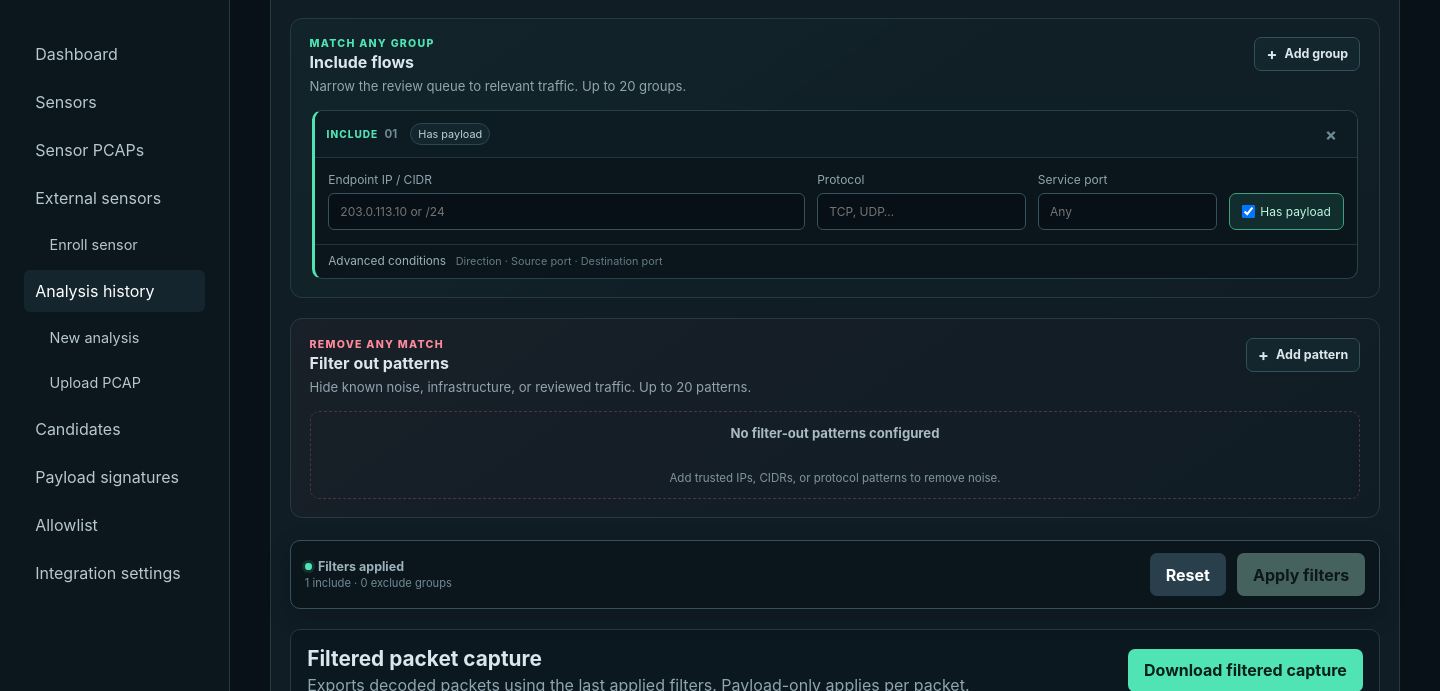
Test: C2Hunter UI › downloads packets using the last applied analysis-flow filters
(page scrolled)
Click the button with aria-label "Add filter out" at (1303, 355), box [1246, 338, 1360, 372]
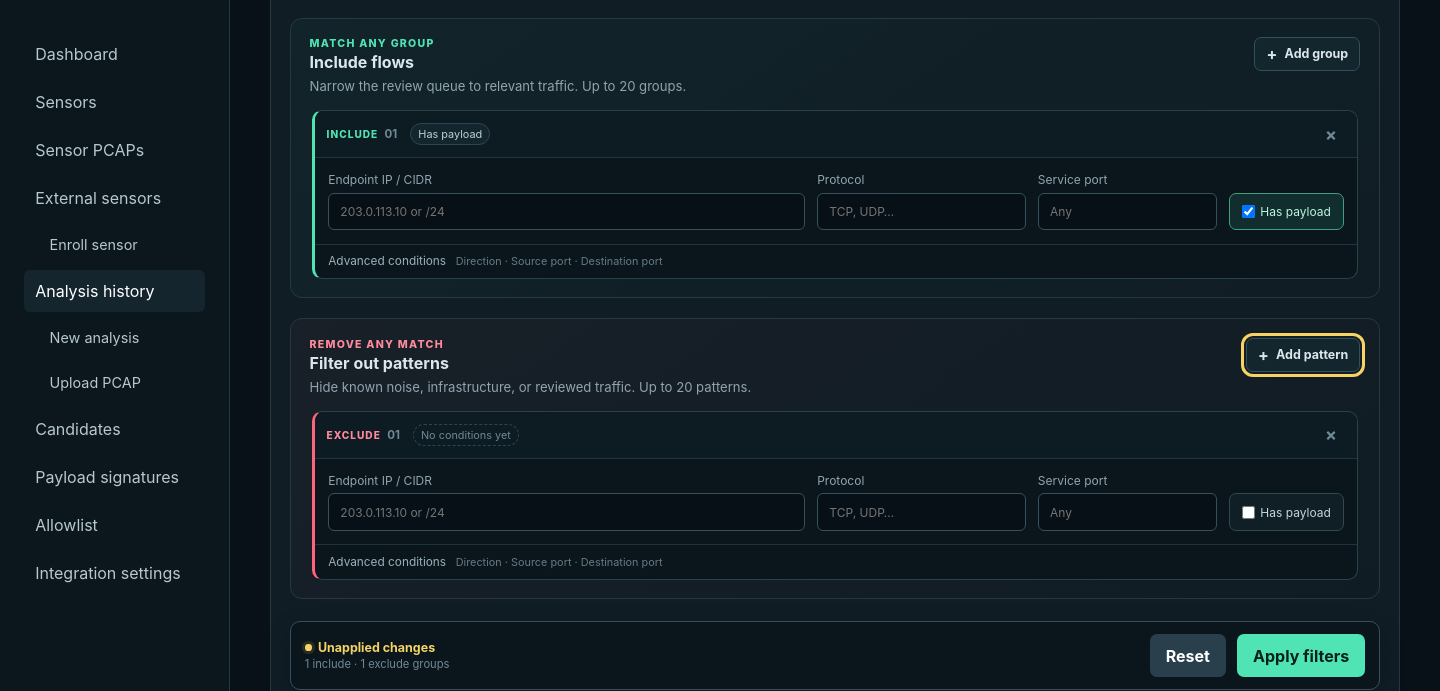
Type "198.51.100.0/24" into the field named "Filter out 1 endpoint IP or CIDR" at (567, 512), box [328, 493, 805, 531]
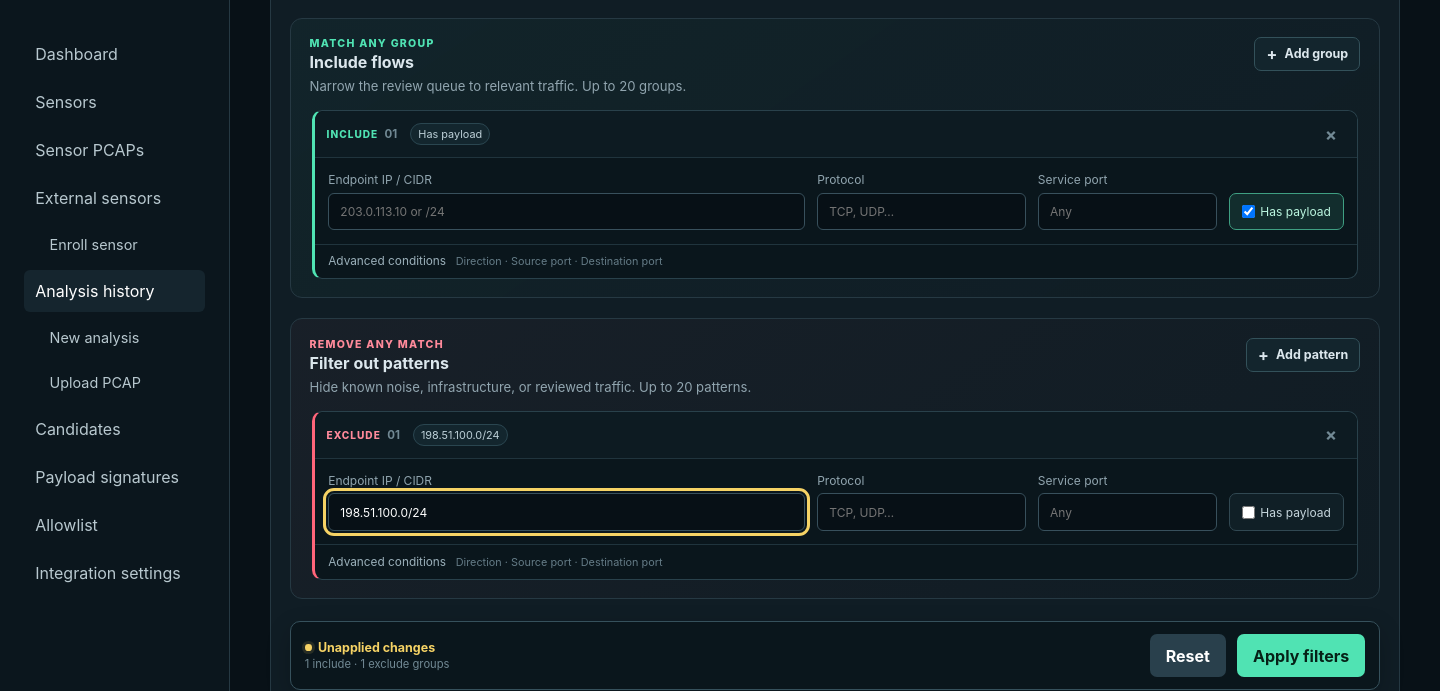
Click the button "Apply filters" at (1301, 656), box [1237, 634, 1365, 677]
(page scrolled)
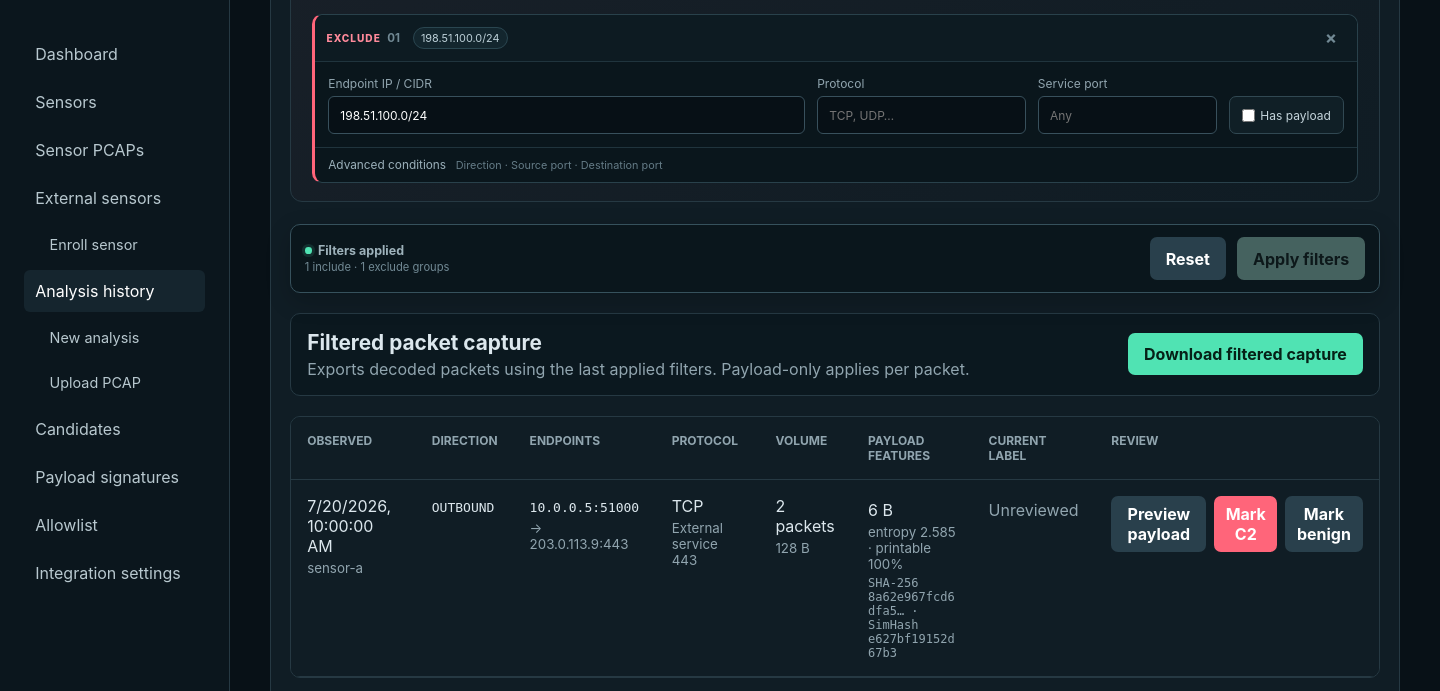
Click the button "Download filtered capture" at (1245, 354), box [1128, 333, 1363, 376]
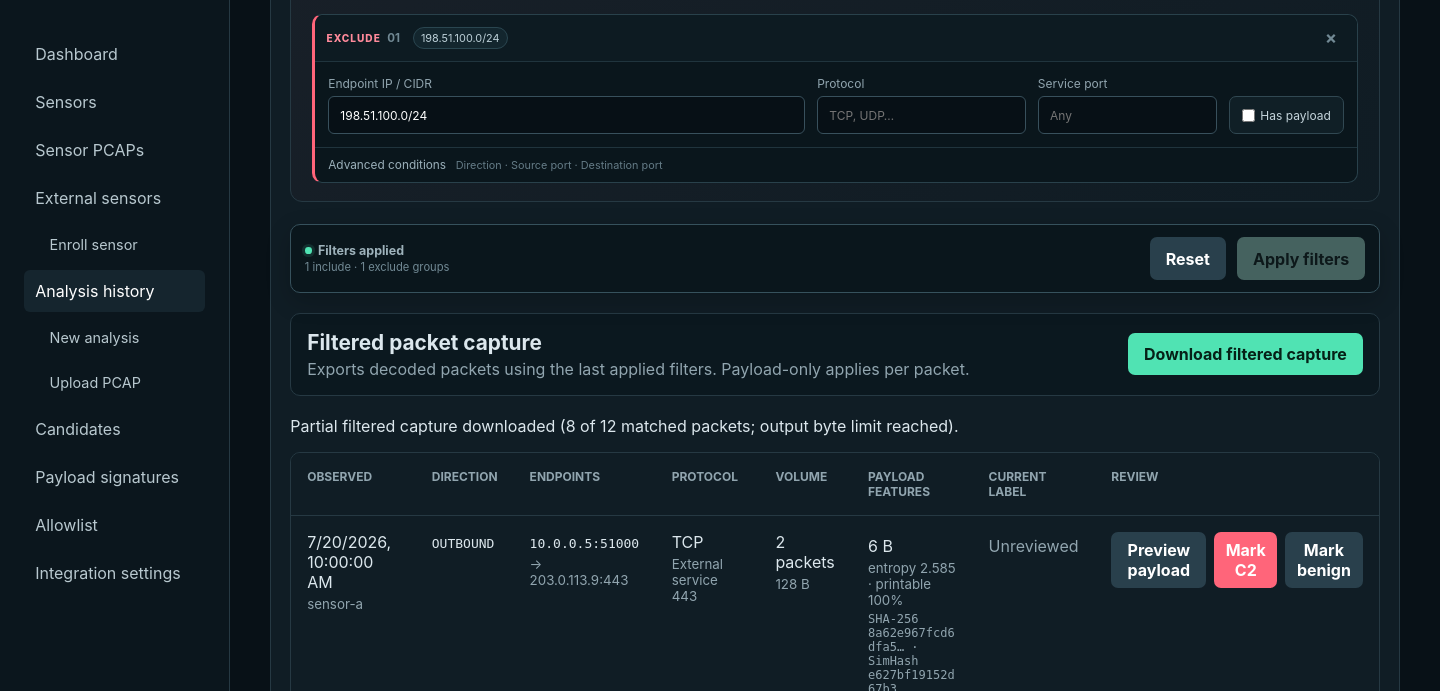
expect the message shows "Partial filtered capture downloaded (8 of 12 matched packets; output byte limit reached)": met, box [290, 416, 959, 436]
Click the button "Reset" at (1188, 259), box [1150, 237, 1226, 280]
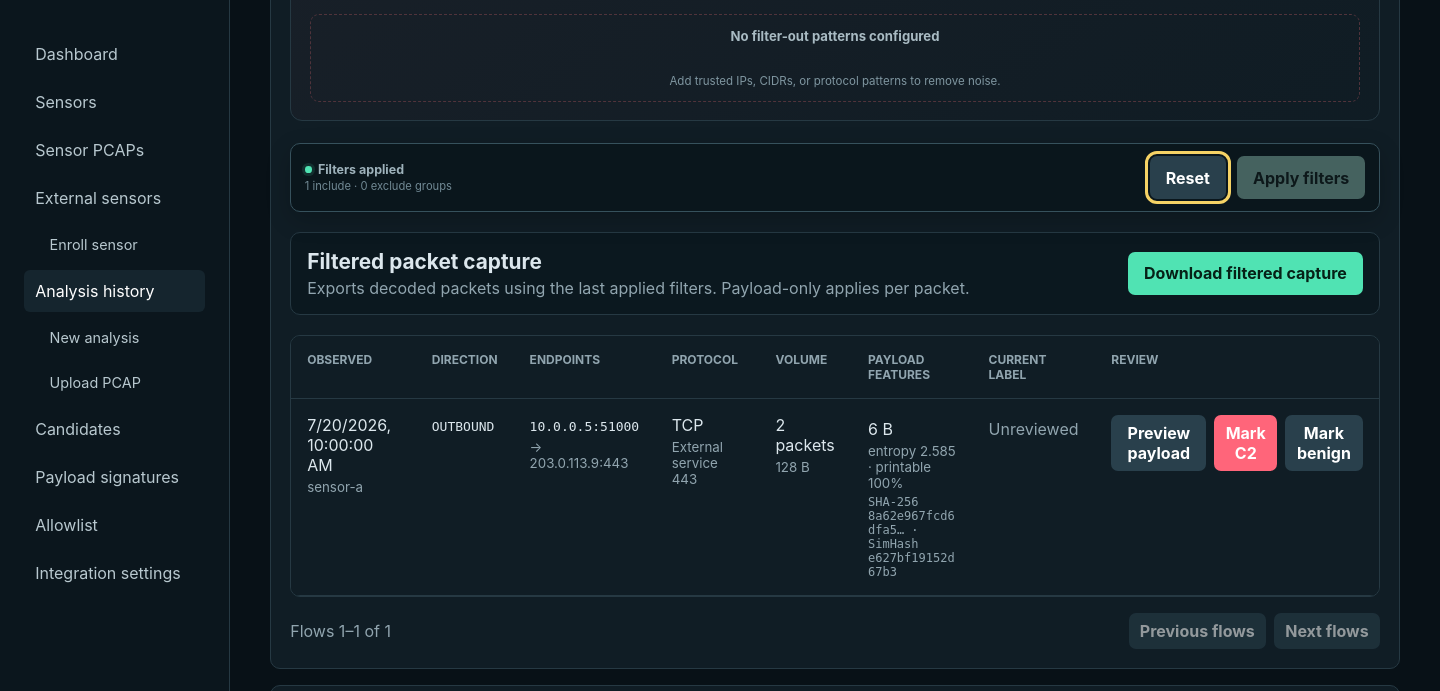
expect the text "Partial filtered capture downloaded" is gone: met
